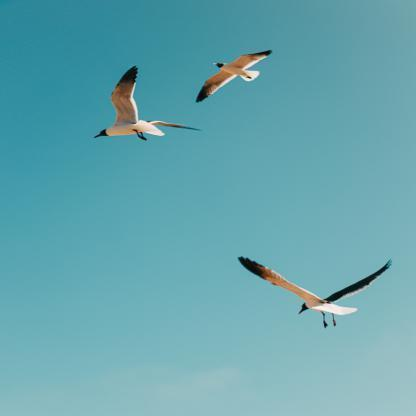bird: (238, 255, 392, 328), (93, 64, 199, 140), (196, 49, 272, 102)
